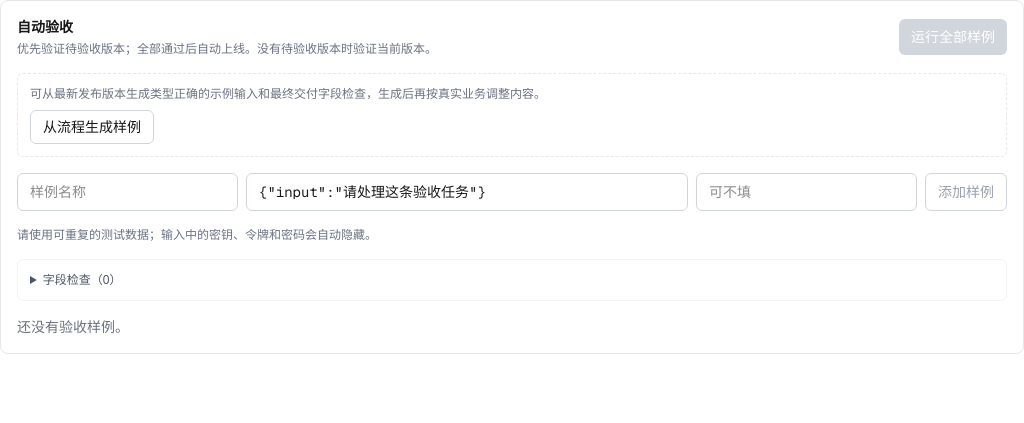
Scenario: EvaluationPanel › 没有样例时可以从发布流程生成可编辑样例
The width and height of the screenshot is (1024, 423).
Step 1. Click the button "从流程生成样例" → coordinates (92, 127), box [30,110,154,144]
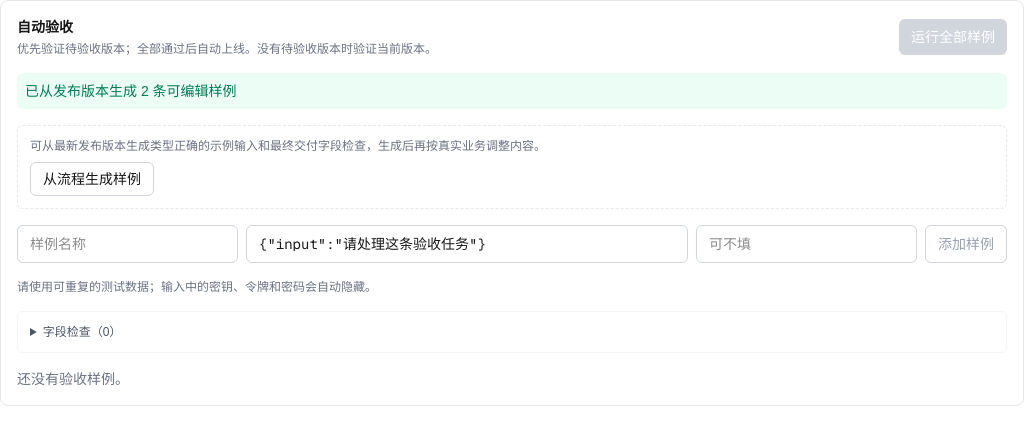
Expected: the message reads "已从发布版本生成 2 条可编辑样例", [25,83,237,99]
